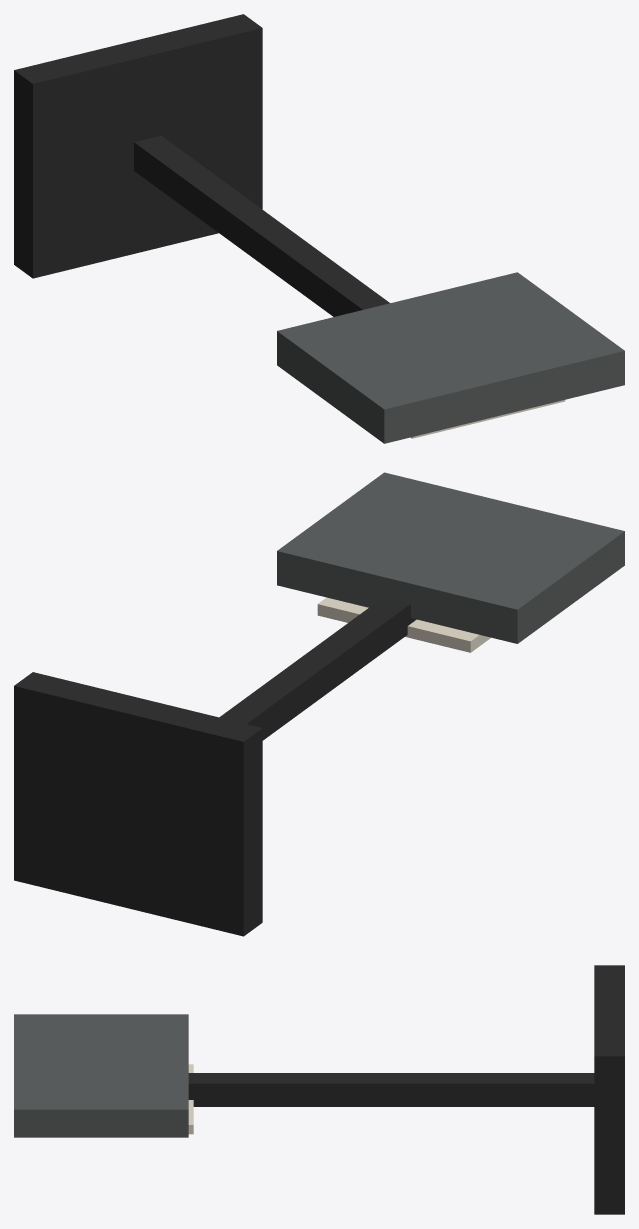
File: gallery015_brochure_stand.glb
3 renders of one model, top to bottom at view 1: azimuth 30°, elevation 25°; view 2: azimuth 150°, elevation 25°; view 3: azimuth 270°, elevation 25°, orthographic. The views are drawn at different scales.
Visible parts, largest first — view 1: Base, Panel, Stem; view 2: Base, Panel, Stem, Brochure0; view 3: Panel, Stem, Base.
Part boxes in pixels (x1=…): Base: x1=14, y1=14, x2=262, y2=278; Panel: x1=277, y1=272, x2=624, y2=443; Stem: x1=134, y1=135, x2=389, y2=316; Base: x1=14, y1=672, x2=262, y2=936; Panel: x1=277, y1=472, x2=624, y2=643; Stem: x1=219, y1=597, x2=416, y2=740; Brochure0: x1=317, y1=597, x2=490, y2=652; Panel: x1=14, y1=1014, x2=188, y2=1137; Stem: x1=188, y1=1073, x2=594, y2=1106; Base: x1=594, y1=965, x2=624, y2=1214.
Size of the model in its own units: 0.44 by 0.34 by 1.19.
